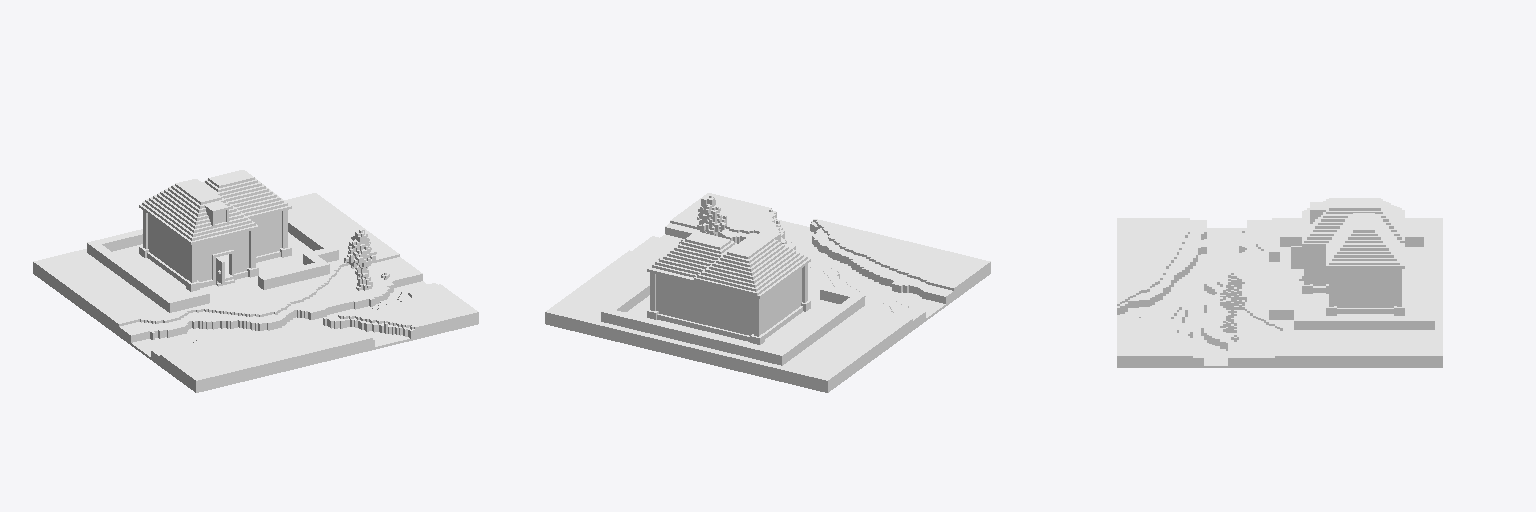
File: home.obj
The picture shows the model from 3 angles: view 1: azimuth 30°, elevation 25°; view 2: azimuth 150°, elevation 25°; view 3: azimuth 270°, elevation 25°; orthographic projection.
Bounding box in the file's own units: 120 × 35 × 120.